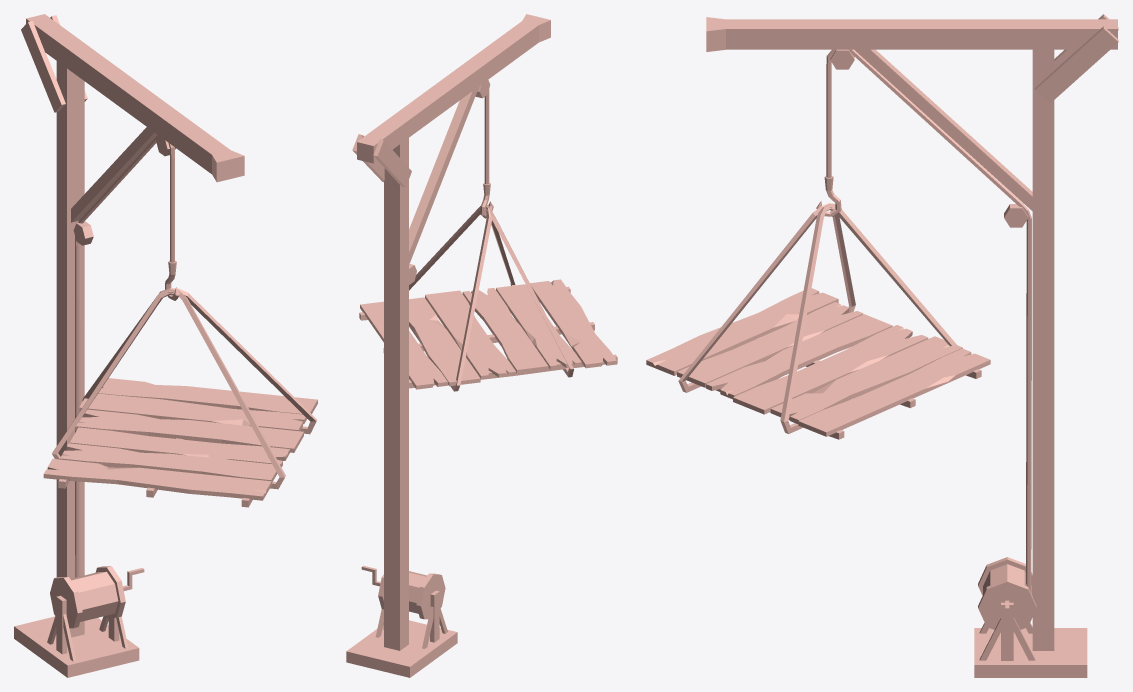
File: Mega_Asset_s_Pack_Cube_001.FBX
The picture shows the model from 3 angles, left to right: view 1: azimuth 30°, elevation 25°; view 2: azimuth 150°, elevation 25°; view 3: azimuth 270°, elevation 25°; orthographic projection. The views are drawn at different scales.
Visible parts, largest first — view 1: Mega_Asset_s_Pack_Cube_001; view 2: Mega_Asset_s_Pack_Cube_001; view 3: Mega_Asset_s_Pack_Cube_001.
Part boxes in pixels (x1,y1,x2,y2): Mega_Asset_s_Pack_Cube_001: (14, 14, 317, 677); Mega_Asset_s_Pack_Cube_001: (346, 14, 617, 677); Mega_Asset_s_Pack_Cube_001: (646, 14, 1118, 677).
Size of what is drawn, in the model's own units: 751 by 1036 by 1544.
